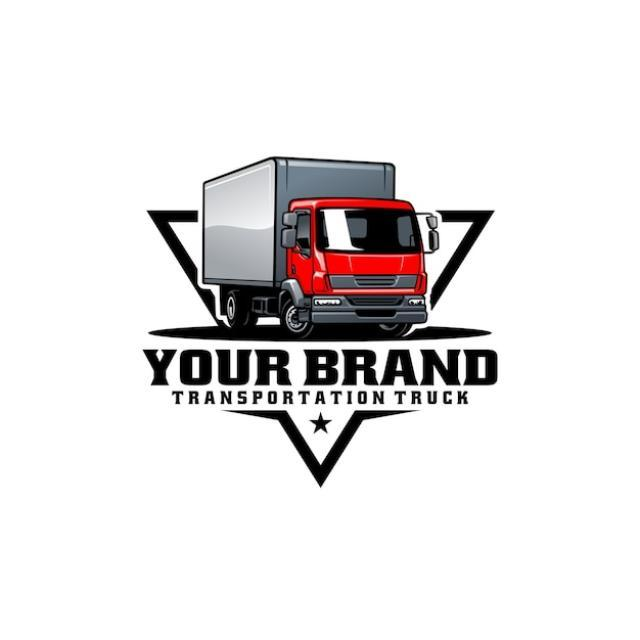traffic light: (198, 154, 438, 338)
